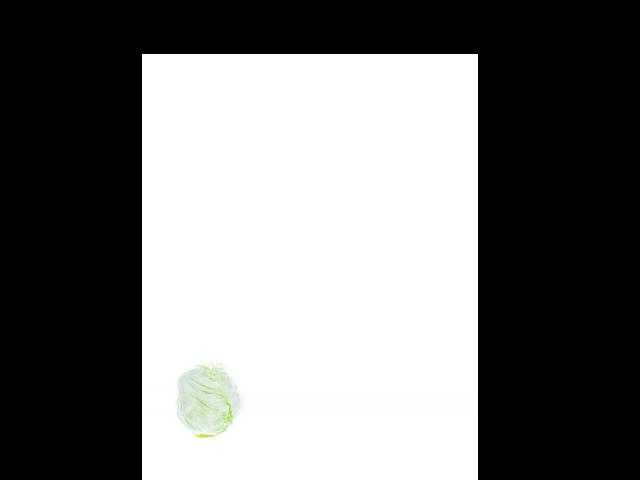lettuce: (179, 362, 242, 436)
